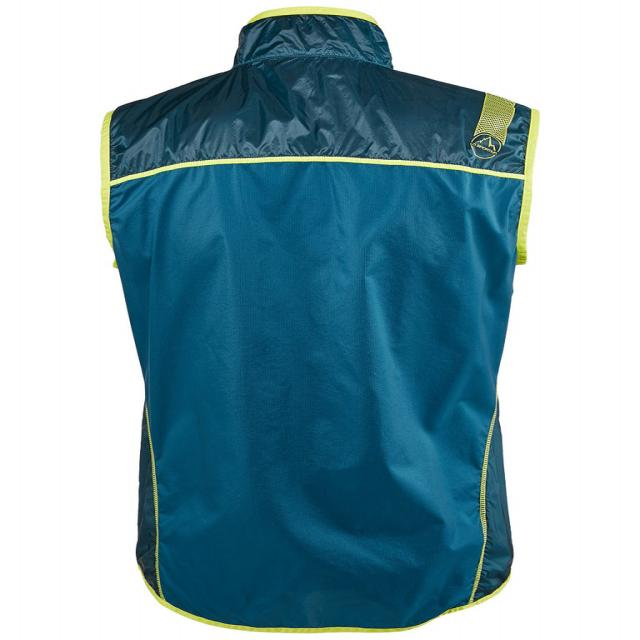Reflective-Jacket: (31, 1, 620, 640)
